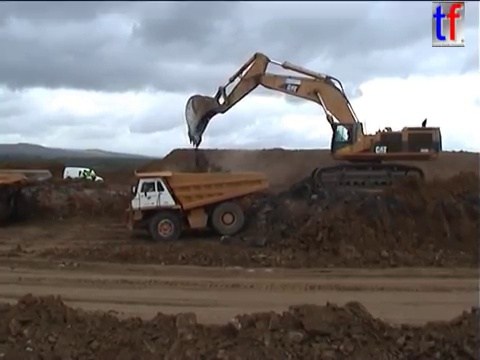excavator: (182, 49, 444, 197)
truck: (122, 169, 270, 243), (1, 167, 53, 227)
worker: (88, 166, 97, 185), (79, 166, 87, 185)
